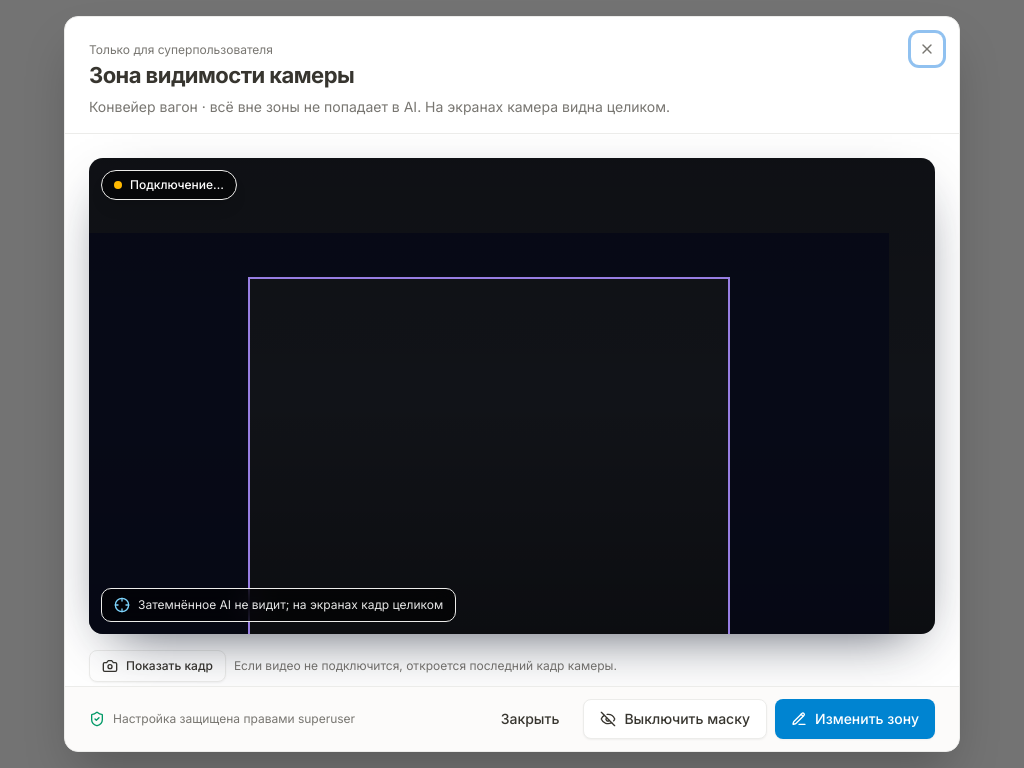
Test: CameraVisibilityModal › switches a saved mask off without losing its polygon
The image size is (1024, 768).
Click the button "Выключить маску": (675, 719) [583,699,767,739]
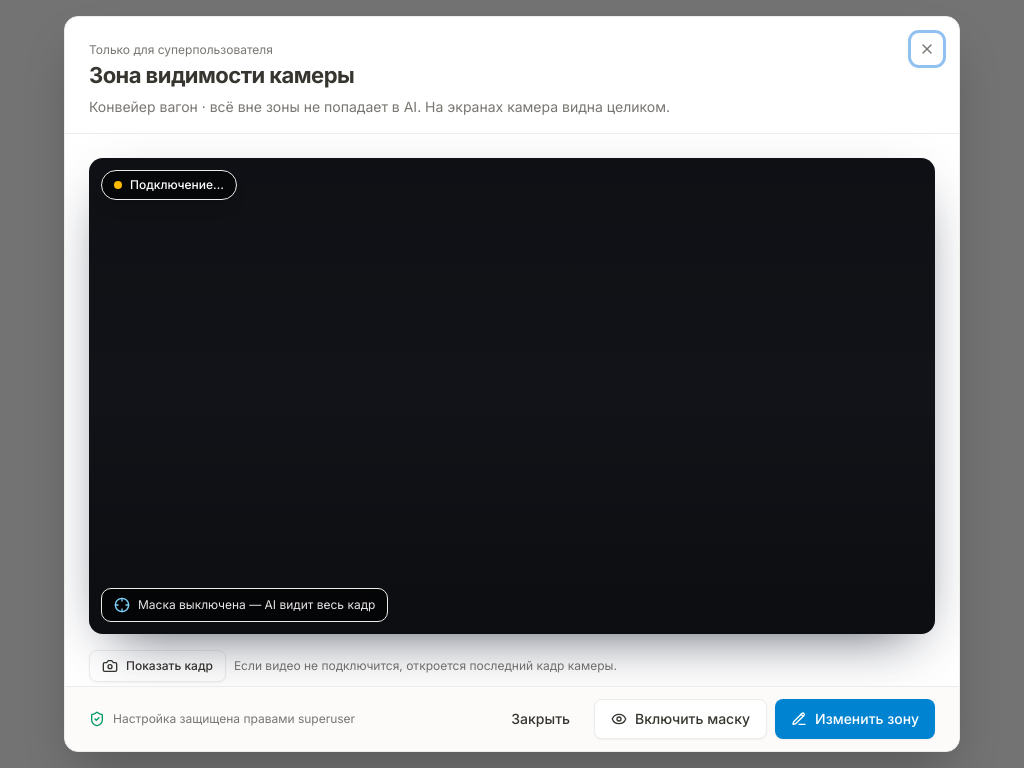
Expected: the button "Включить маску" is shown, [594,699,767,739]
